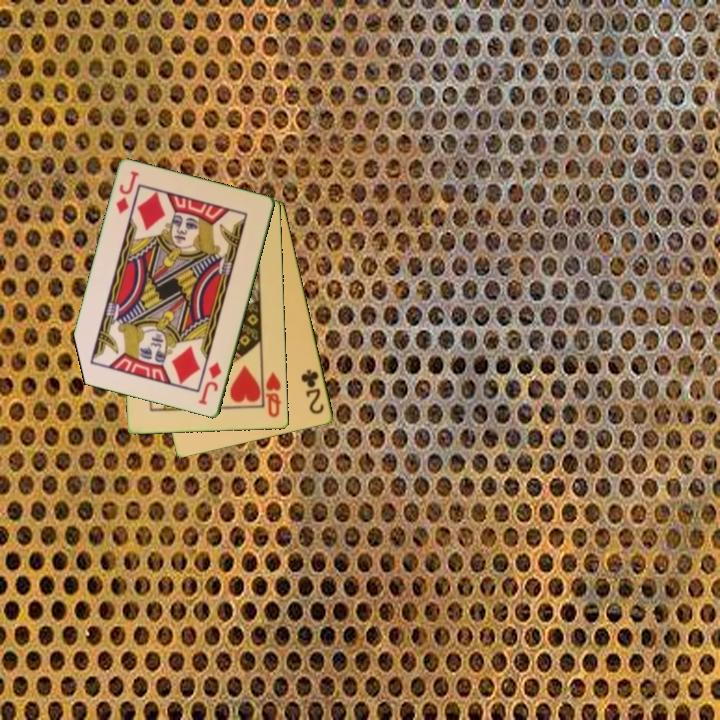2c: (298, 366, 327, 417)
Jd: (195, 359, 225, 408), (113, 168, 142, 217)
Qh: (260, 367, 284, 420)
